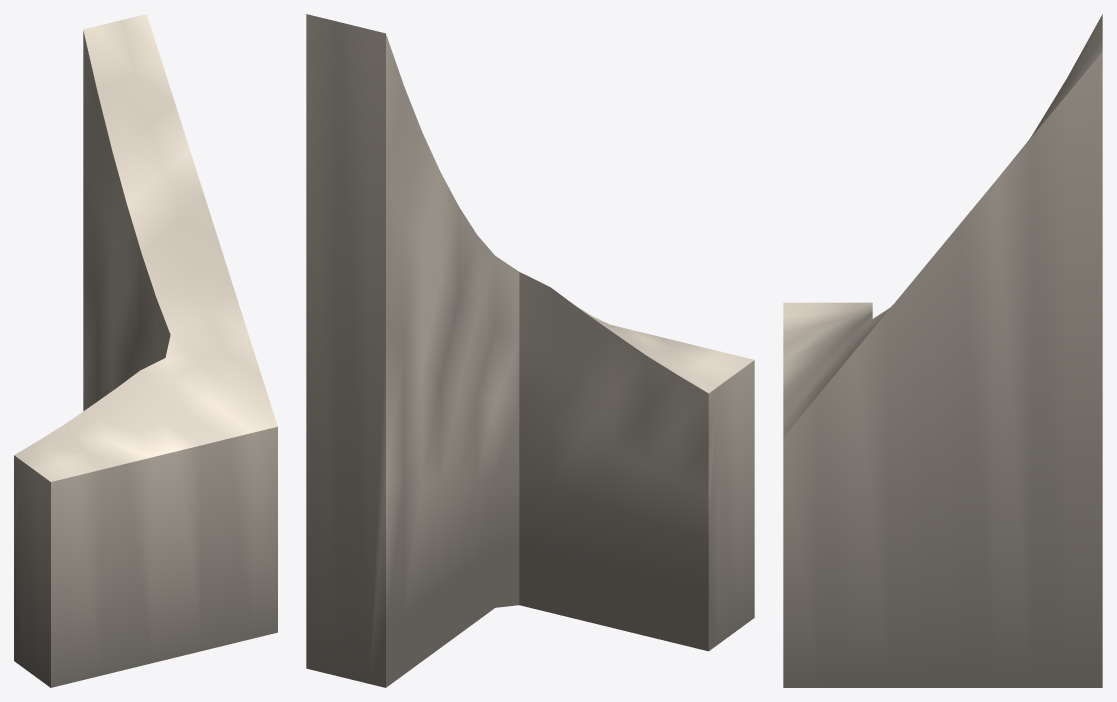
Rendered from SM_VKI_Rock_Cave_CCFO_WallNW.fbx.
The picture shows the model from 3 angles, left to right: view 1: azimuth 30°, elevation 25°; view 2: azimuth 150°, elevation 25°; view 3: azimuth 270°, elevation 25°; orthographic projection. The views are drawn at different scales.
Parts seen in each view (by area): view 1: SM_VKI_Rock_Cave_CCFO_WallNW.001; view 2: SM_VKI_Rock_Cave_CCFO_WallNW.001; view 3: SM_VKI_Rock_Cave_CCFO_WallNW.001.
Boxes of the visible parts, x1,y1,x2,y2 form: SM_VKI_Rock_Cave_CCFO_WallNW.001: [14, 14, 277, 687]; SM_VKI_Rock_Cave_CCFO_WallNW.001: [306, 14, 754, 687]; SM_VKI_Rock_Cave_CCFO_WallNW.001: [783, 14, 1102, 687].
Size of the model in its own units: 1.5 by 3.3 by 1.5.
